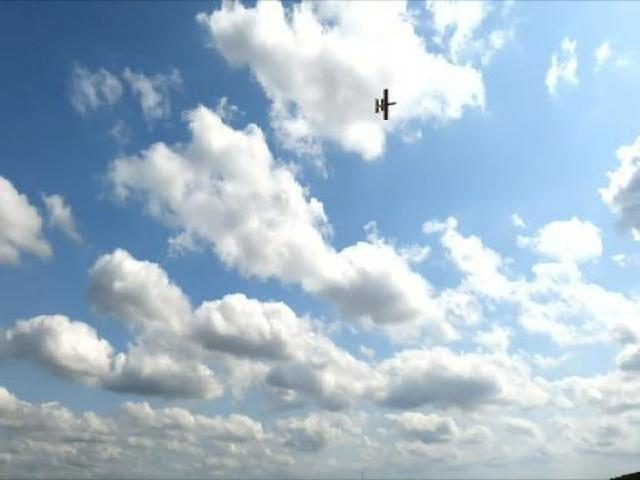uav: (368, 84, 398, 127)
